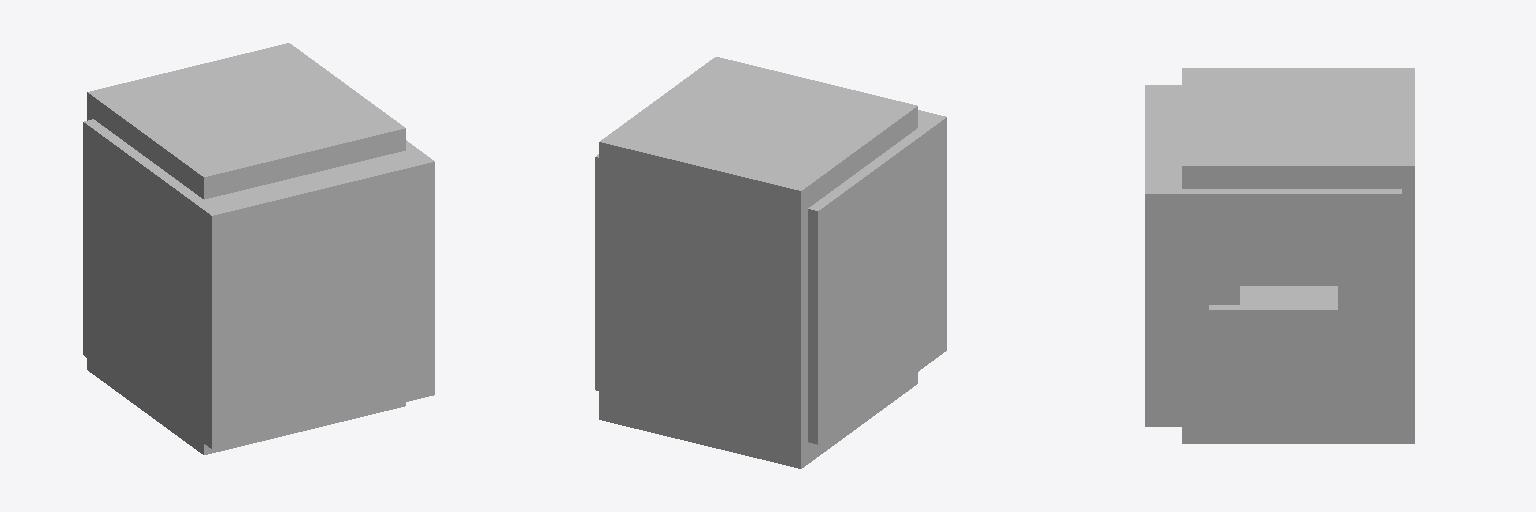
File: unit_cube_divided_dup.obj
3 renders of one model, left to right at view 1: azimuth 30°, elevation 25°; view 2: azimuth 150°, elevation 25°; view 3: azimuth 270°, elevation 25°, orthographic.
Parts seen in each view (by area): view 1: Cube.002, Cube.001; view 2: Cube.001, Cube.002; view 3: Cube.002, Cube.001.
Boxes of the visible parts, box(x1,y1,x2,y2) form: Cube.002: box(83, 119, 434, 448); Cube.001: box(87, 43, 405, 454); Cube.001: box(599, 57, 917, 468); Cube.002: box(595, 110, 946, 444); Cube.002: box(1145, 85, 1401, 426); Cube.001: box(1182, 68, 1414, 443).
Size of the model in its own units: 1.1 by 1.31 by 1.16.